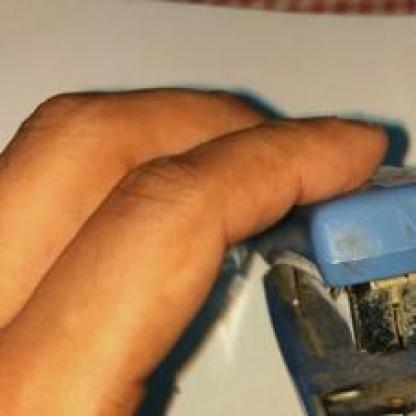stapler: (222, 147, 415, 409)
